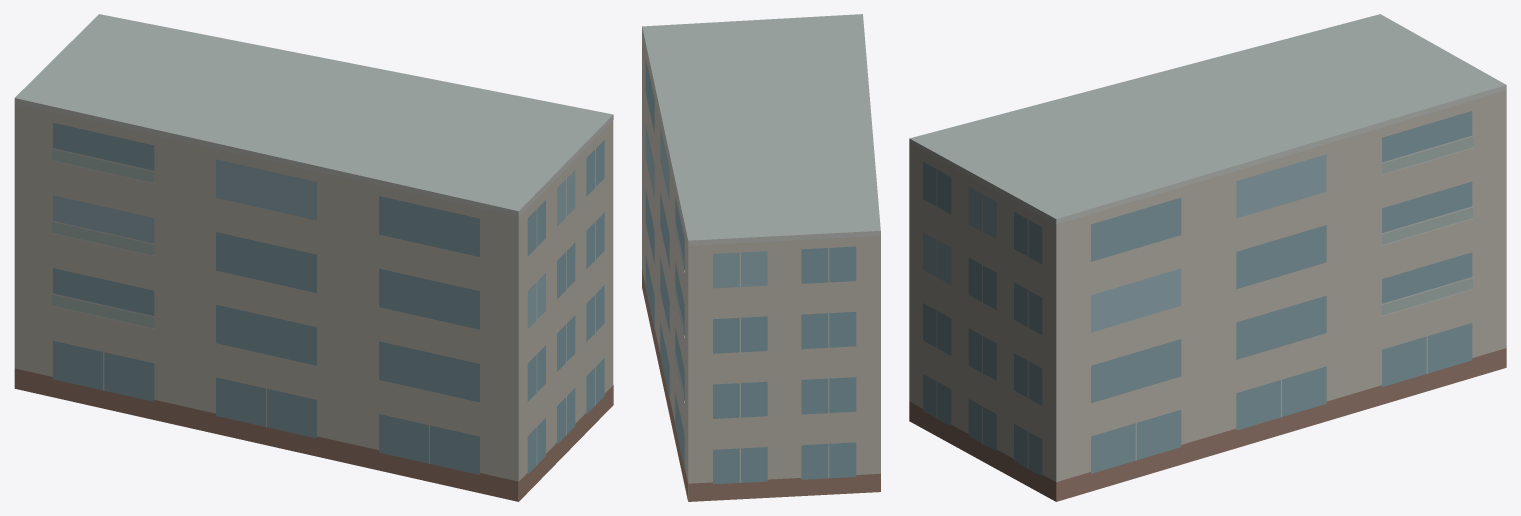
The model's file is survey-upis-32750171.glb.
3 views of the same model, side by side, from view 1: azimuth 30°, elevation 25°; view 2: azimuth 150°, elevation 25°; view 3: azimuth 270°, elevation 25° (orthographic). The views are drawn at different scales.
Visible parts, largest first — view 1: survey-upis-32750171.tmp; view 2: survey-upis-32750171.tmp; view 3: survey-upis-32750171.tmp.
Boxes of the visible parts, <box> form: survey-upis-32750171.tmp: <box>14,14,613,501</box>; survey-upis-32750171.tmp: <box>642,14,880,501</box>; survey-upis-32750171.tmp: <box>909,14,1506,501</box>.
Bounding box in the file's own units: 20.08 × 12.9 × 24.71.
